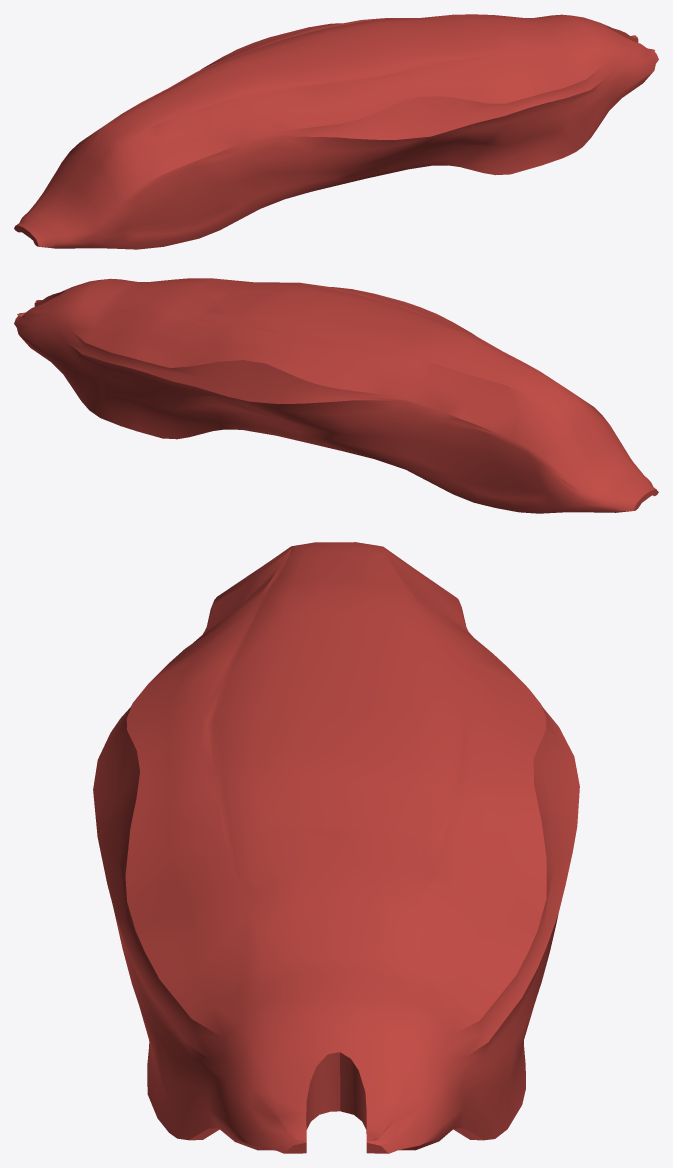
Rendered from streetfighter_lod2.glb.
3 renders of one model, top to bottom at view 1: azimuth 30°, elevation 25°; view 2: azimuth 150°, elevation 25°; view 3: azimuth 270°, elevation 25°, orthographic. The views are drawn at different scales.
Visible parts, largest first — view 1: streetfighter_lod2; view 2: streetfighter_lod2; view 3: streetfighter_lod2.
Boxes of the visible parts, left/top/right/bottom form: streetfighter_lod2: left=14, top=14, right=658, bottom=249; streetfighter_lod2: left=14, top=278, right=658, bottom=513; streetfighter_lod2: left=93, top=542, right=579, bottom=1153.
Bounding box in the file's own units: 1.07 × 0.2062 × 0.3626.
